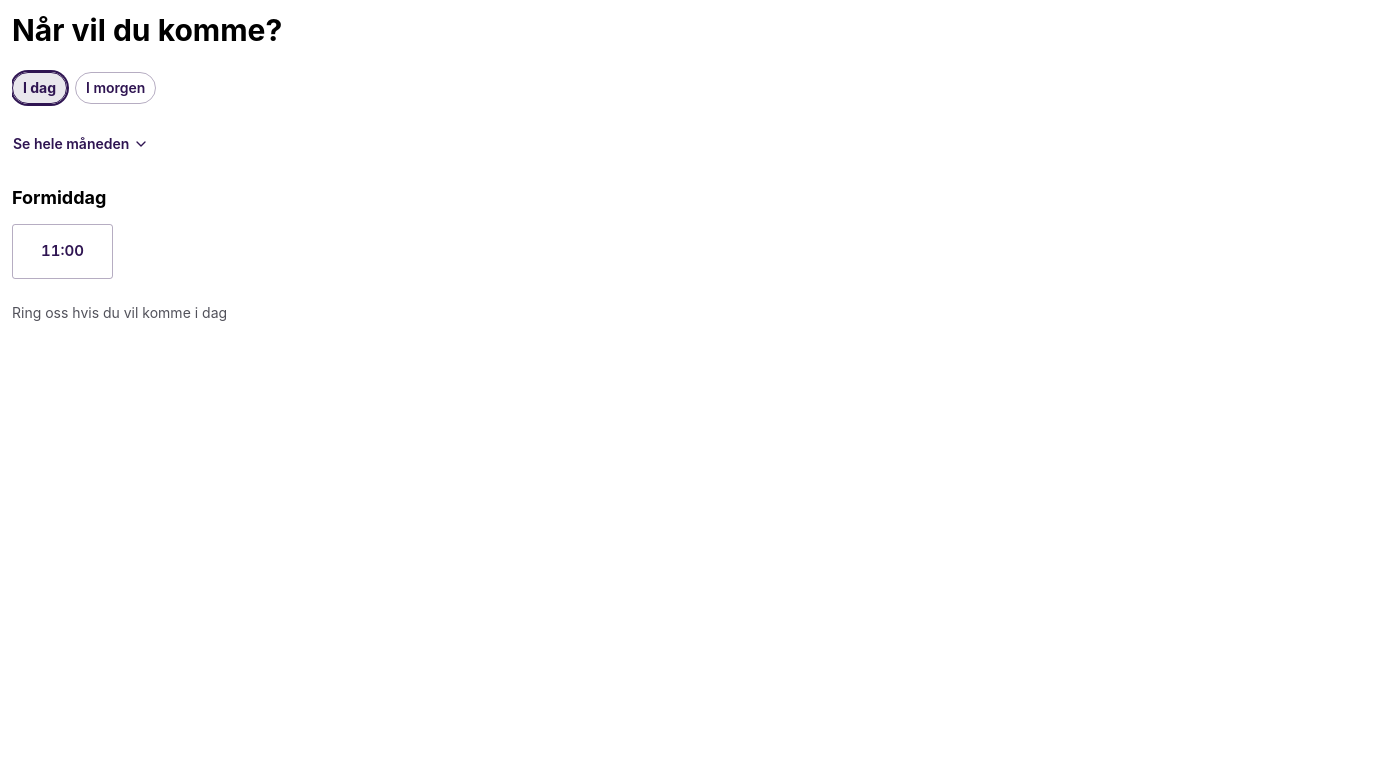
Test: TimeScreen — a family › the month view › changes the day the times are listed for
Check: the button "11:00" is shown, box [12,224,113,278]
Step 1. Click the button "Se hele måneden" → click(81, 144), box [12,128,150,160]
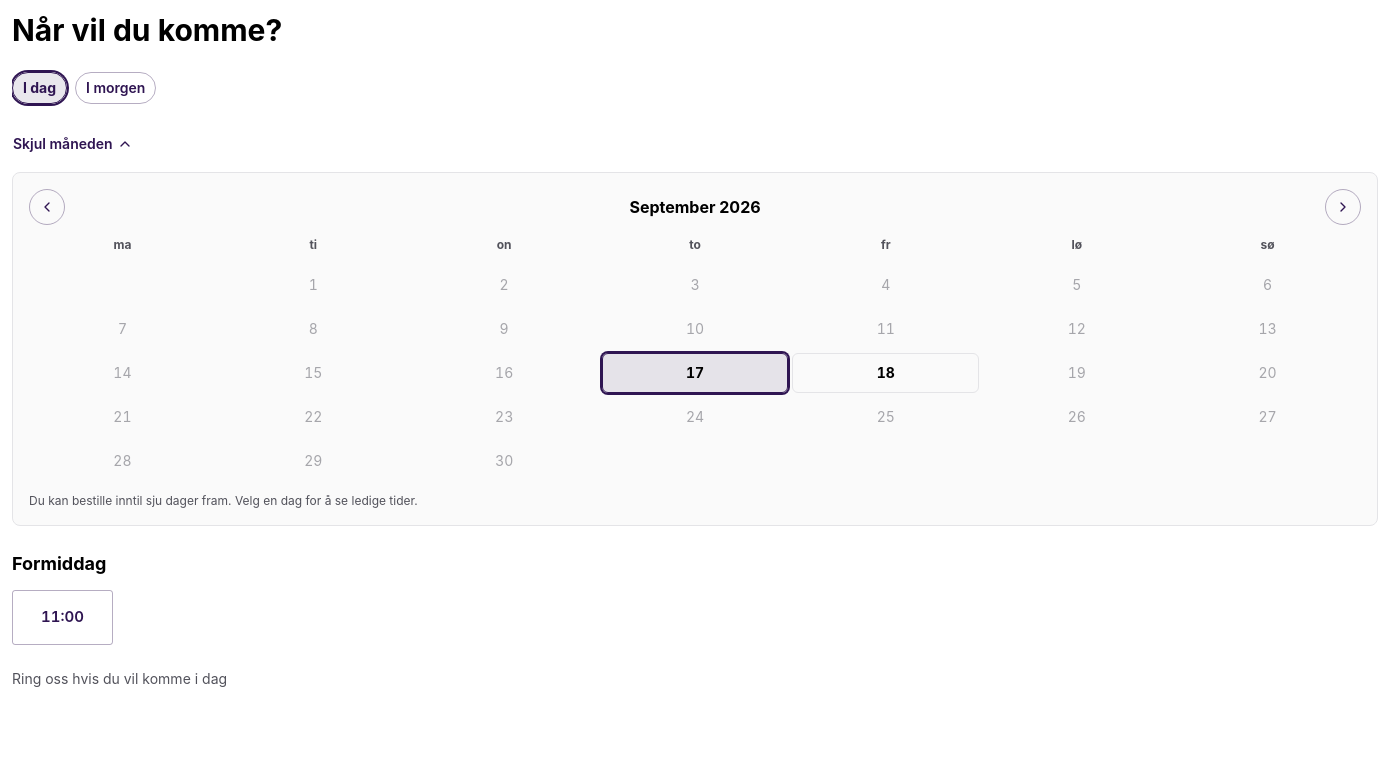
Step 2. Click the button named "i morgen" → click(886, 373), box [792,353,979,393]
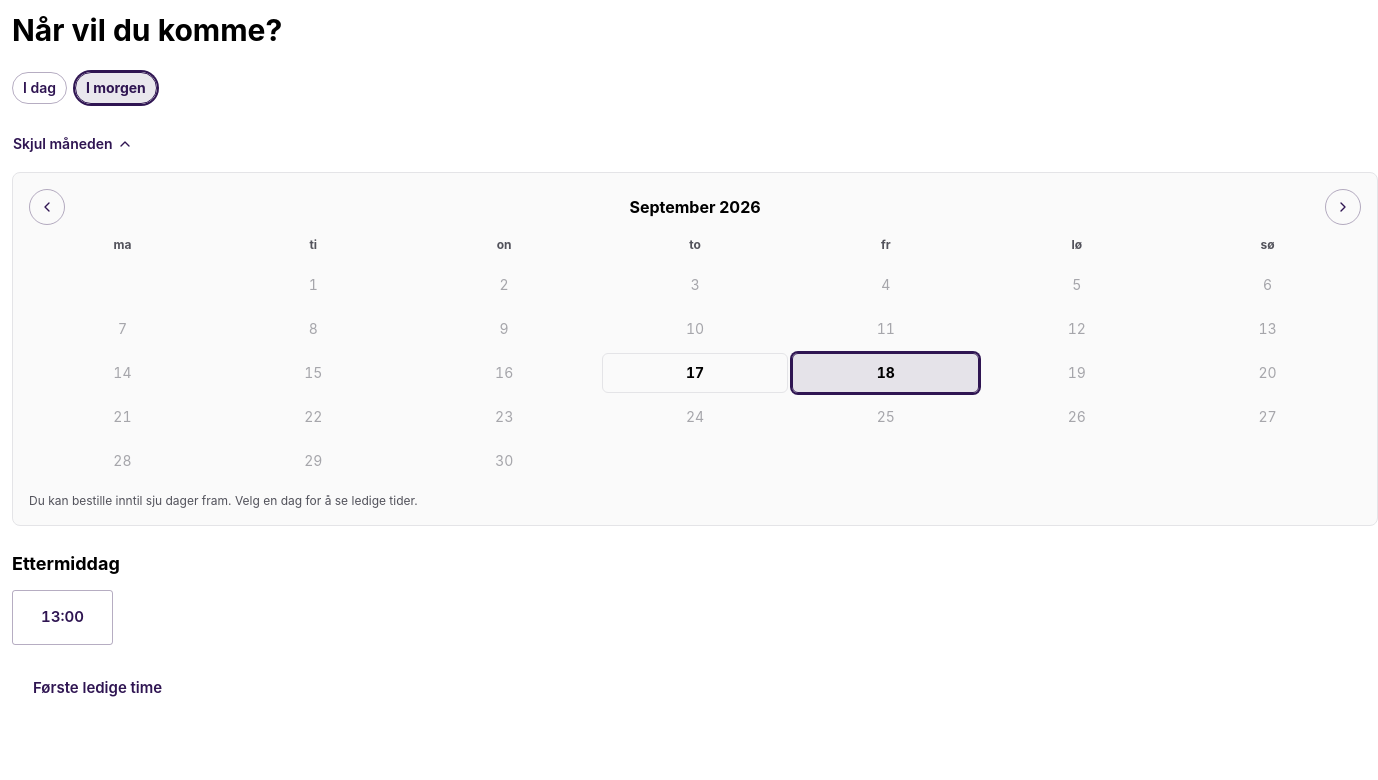
Check: the button "13:00" is shown, box [12,590,113,644]
Check: the button "11:00" is gone
